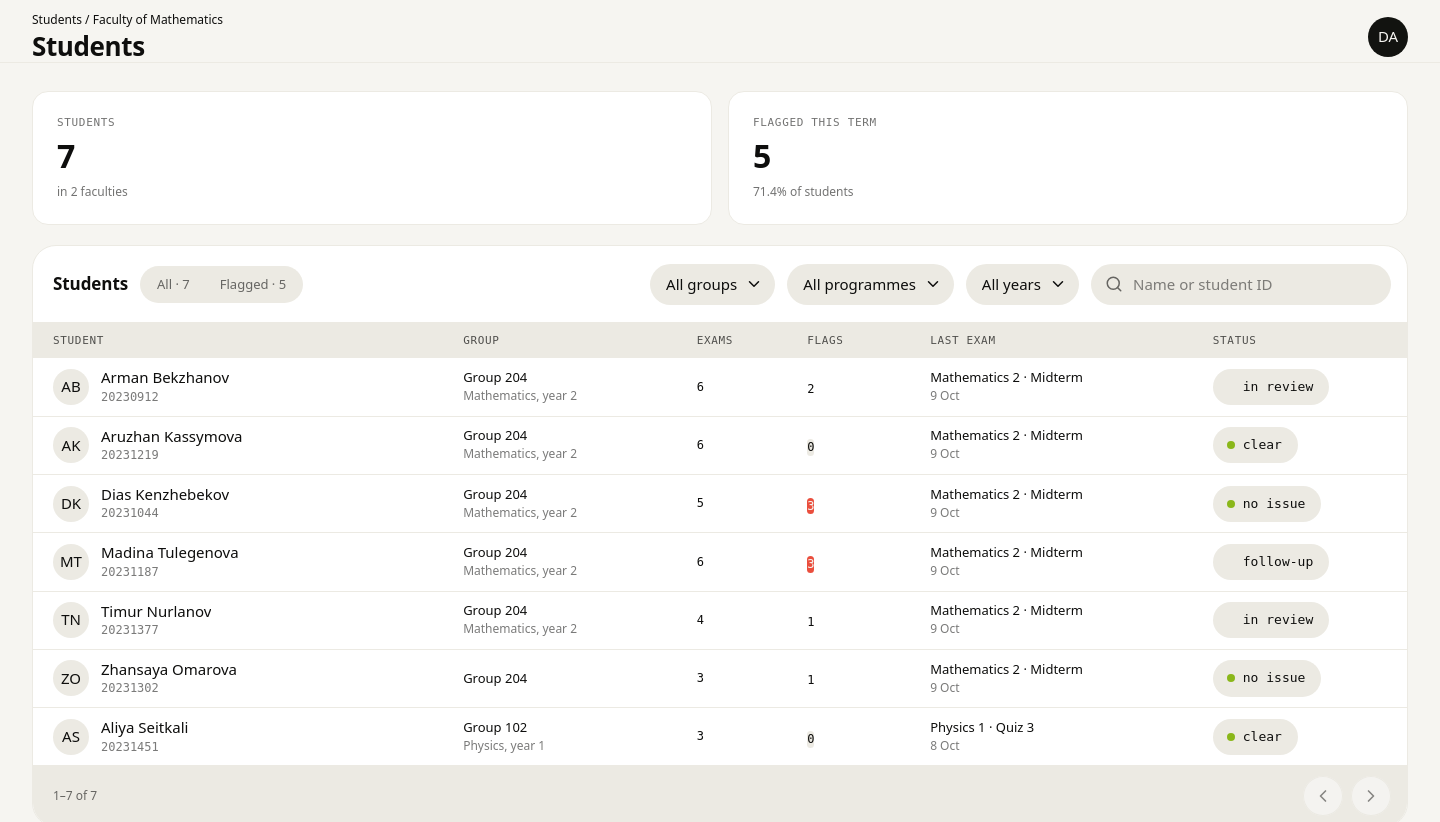
Test case: A.2 Students › finds Madina by name and by 20231187, and keeps the search in the address
This screenshot has width=1440, height=822.
Type "madina" into the search field named "Search students by name or student ID". click: (1254, 284)
box: [1133,273,1375,296]
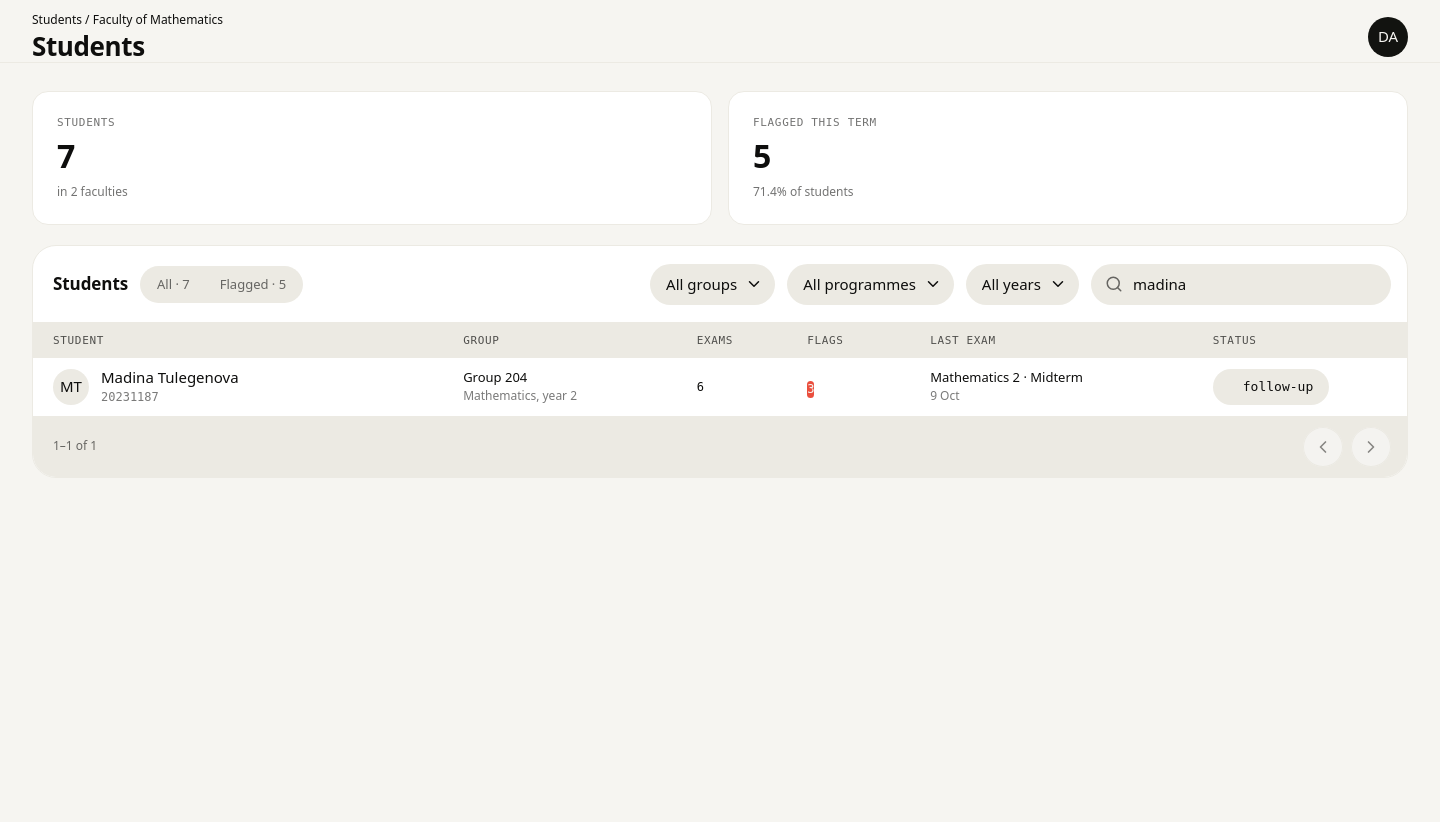
Replace the text in the search field named "Search students by name or student ID" with "20231187". click: (1254, 284)
box: [1133,273,1375,296]
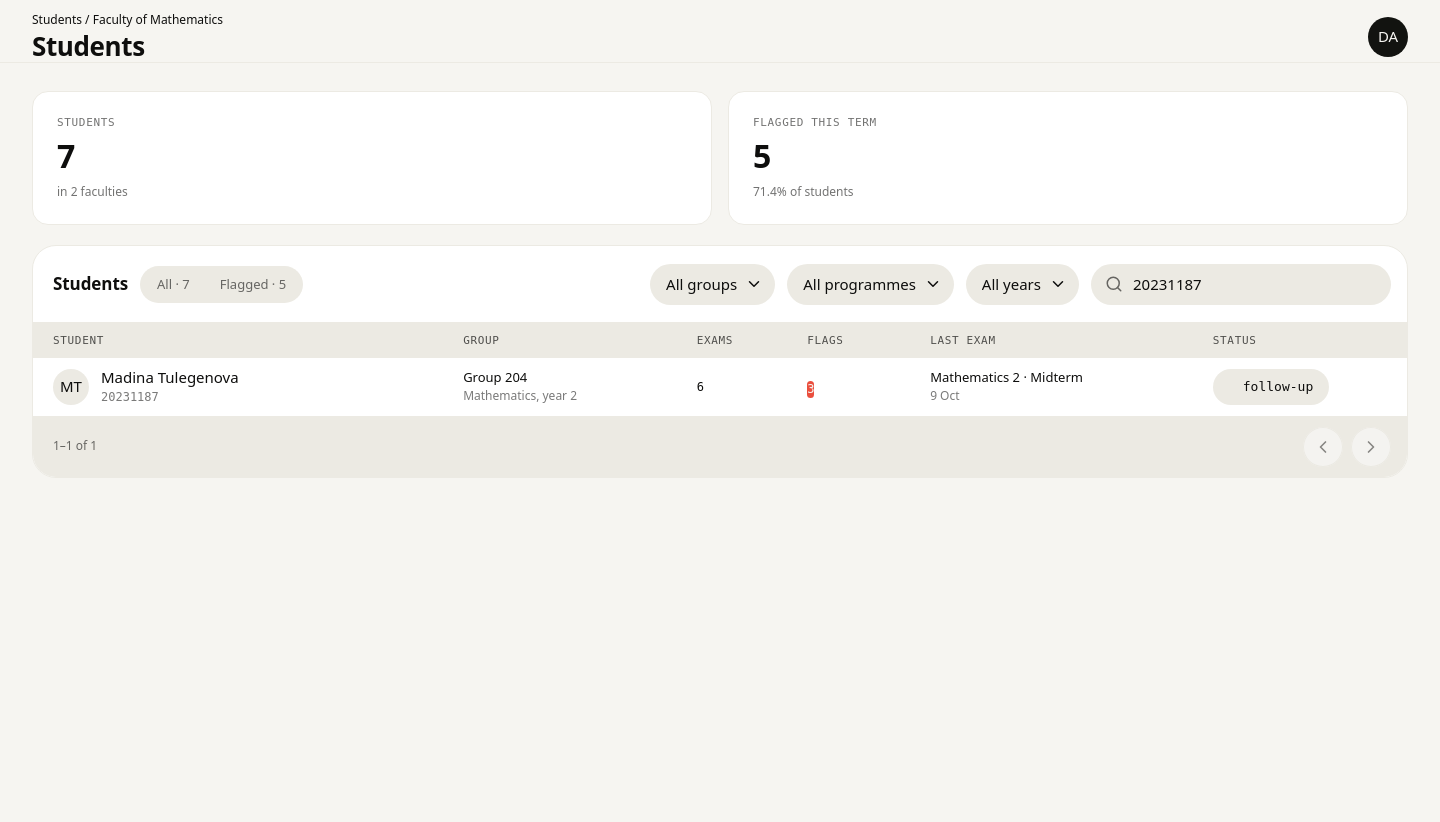
Now the text "1–1 of 1" is shown, box [53,437,97,454]
Replace the text in the search field named "Search students by name or student ID" with "nobody". click: (1254, 284)
box: [1133,273,1375,296]
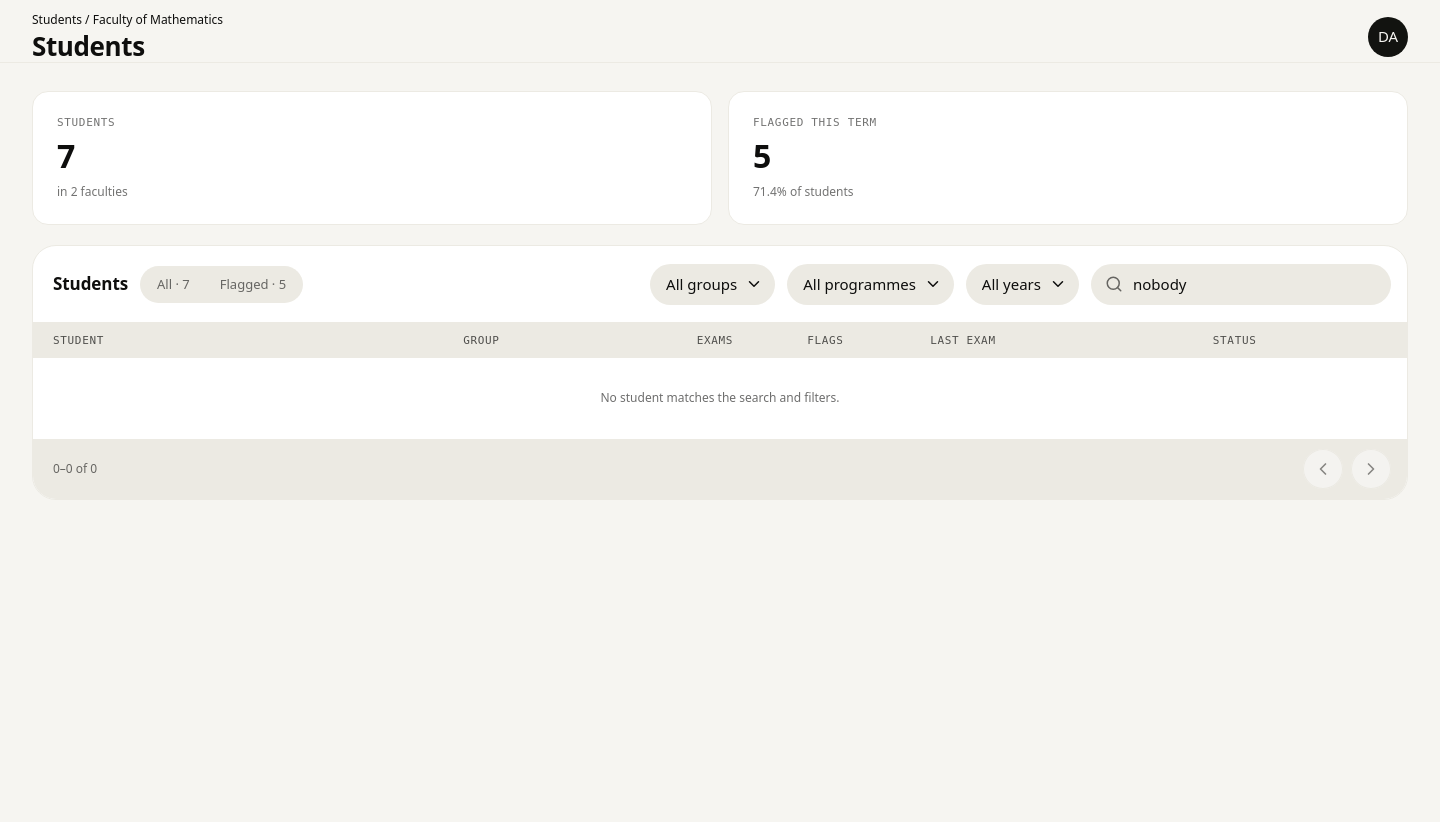
Now the text "No student matches the search and filters." is shown, box [33,358,1407,439]
